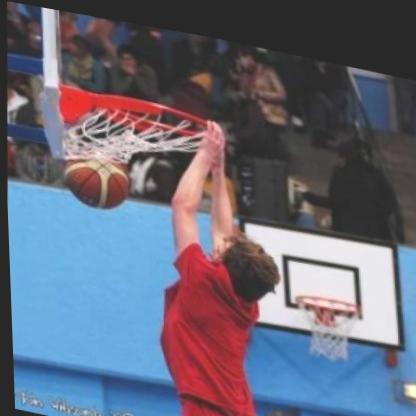basketball: (57, 135, 135, 217)
